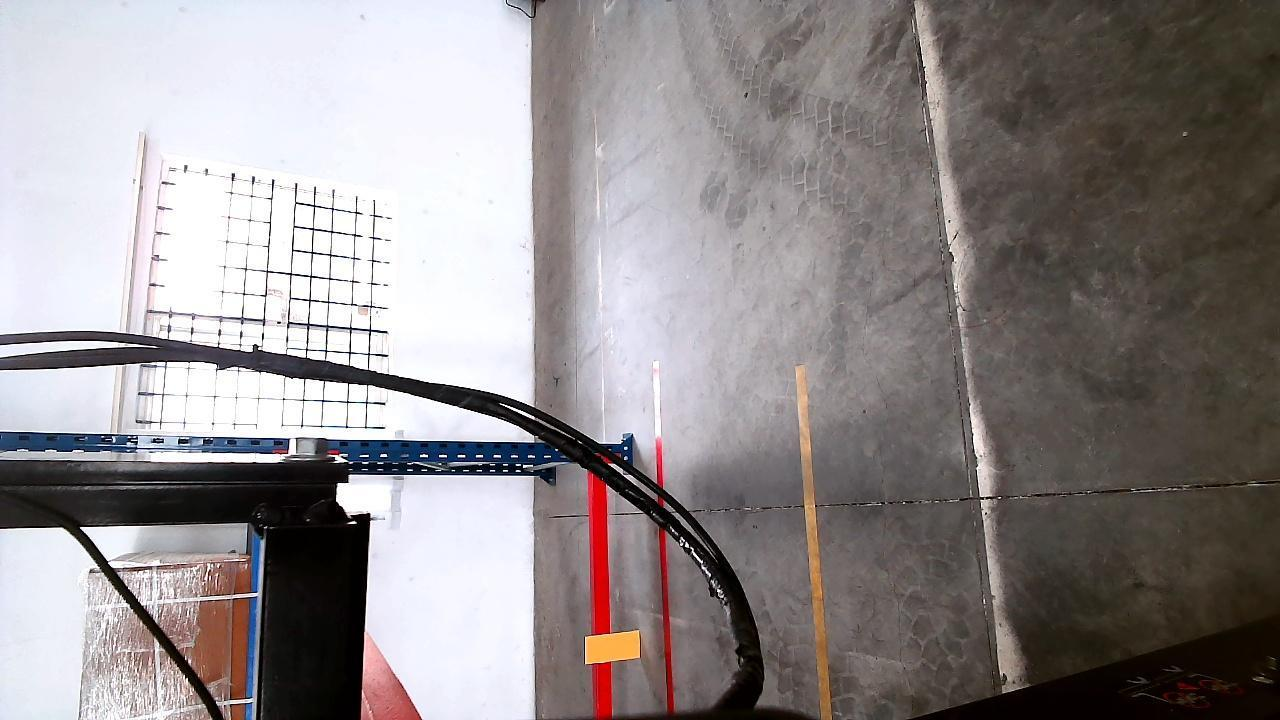h_rack: (590, 459, 617, 720)
orange_strip: (589, 631, 641, 662)
red_line: (652, 367, 675, 711)
yellow_line: (792, 364, 834, 720)
